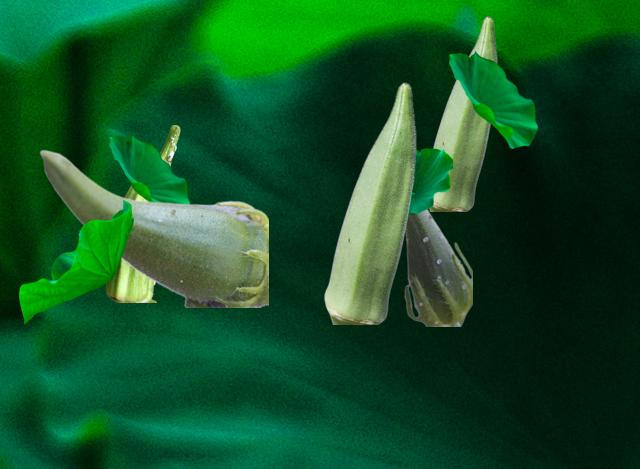okra: (39, 149, 267, 306), (324, 82, 415, 323), (429, 16, 496, 210), (106, 125, 179, 301), (403, 209, 471, 325)
